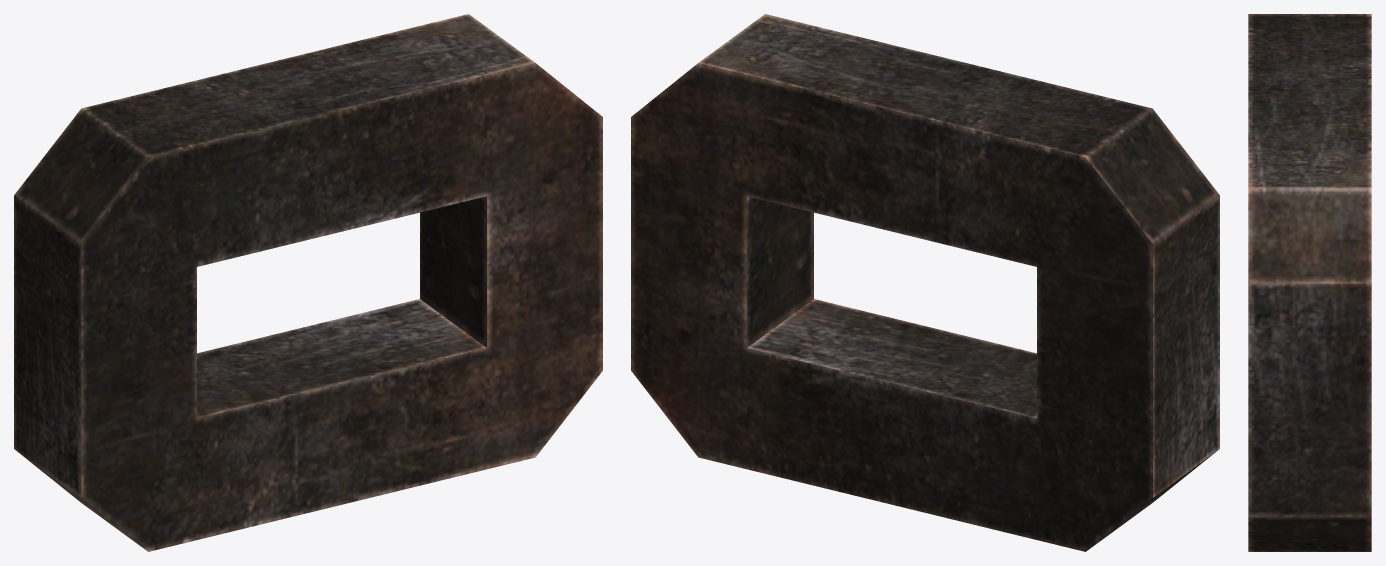
The model's file is environment_common_tielian_002_b.FBX.
3 views of the same model, side by side, from view 1: azimuth 30°, elevation 25°; view 2: azimuth 150°, elevation 25°; view 3: azimuth 270°, elevation 25° (orthographic). The views are drawn at different scales.
Parts seen in each view (by area): view 1: environment_common_tielian_002_b; view 2: environment_common_tielian_002_b; view 3: environment_common_tielian_002_b.
Part boxes in pixels (x1,y1,x2,y2): environment_common_tielian_002_b: (14, 14, 602, 551); environment_common_tielian_002_b: (631, 14, 1219, 551); environment_common_tielian_002_b: (1248, 14, 1371, 551).
Bounding box in the file's own units: 180 × 130 × 40.
Materials: 1 (1 with a texture image).
